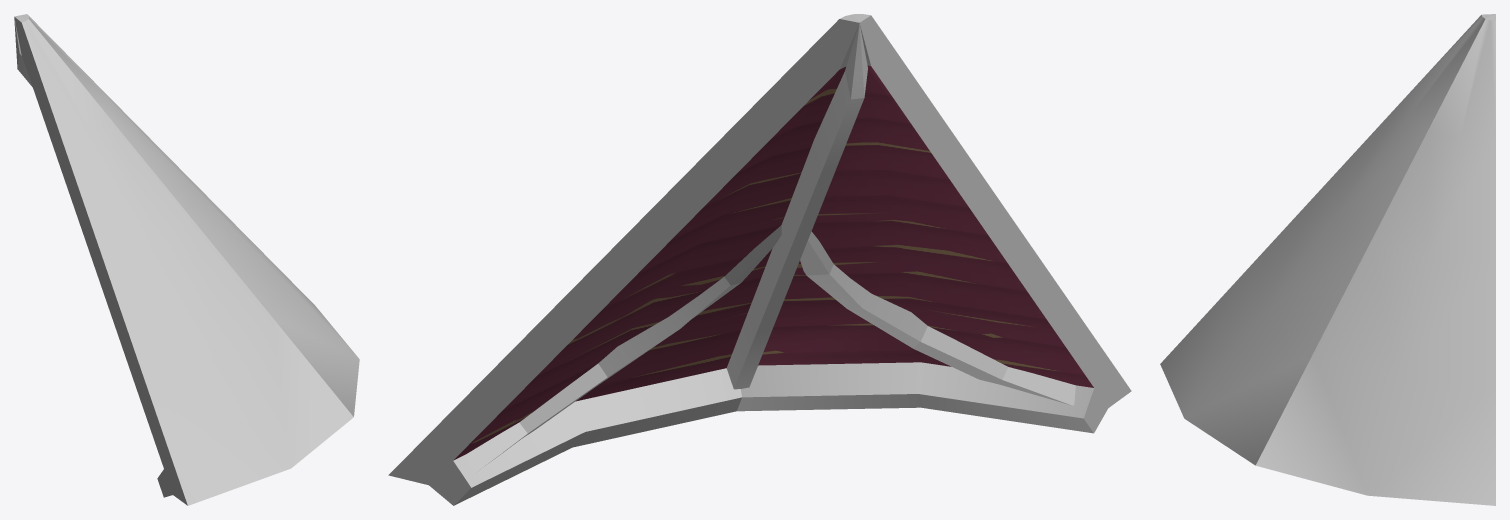
The model's file is SM_Bld_Roof_Straight_Corner_Out_02.fbx.
The picture shows the model from 3 angles, left to right: view 1: azimuth 30°, elevation 25°; view 2: azimuth 150°, elevation 25°; view 3: azimuth 270°, elevation 25°; orthographic projection. The views are drawn at different scales.
Visible parts, largest first — view 1: SM_Bld_Roof_Straight_Corner_Out_02; view 2: SM_Bld_Roof_Straight_Corner_Out_02; view 3: SM_Bld_Roof_Straight_Corner_Out_02.
Part boxes in pixels (x1=…): SM_Bld_Roof_Straight_Corner_Out_02: x1=14, y1=14, x2=359, y2=505; SM_Bld_Roof_Straight_Corner_Out_02: x1=388, y1=14, x2=1131, y2=505; SM_Bld_Roof_Straight_Corner_Out_02: x1=1160, y1=14, x2=1495, y2=505.
Bounding box in the file's own units: 261 × 308 × 261.
